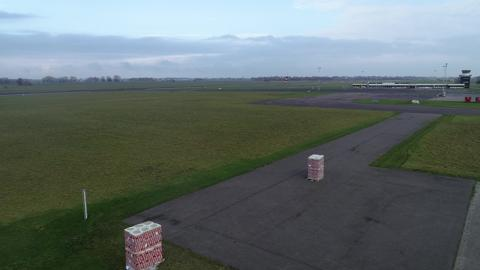RockwoolPallet: (306, 153, 324, 180)
